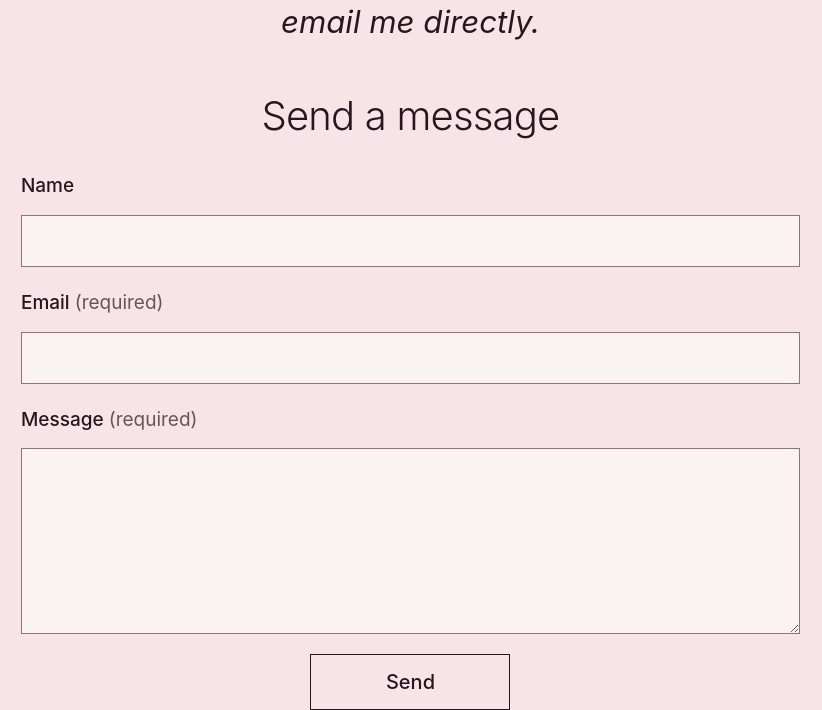
Scenario: ContactPage › marks an empty email with its message and moves focus to it
(page scrolled)
In the text box with id "contact-message": (410, 541) [21, 448, 800, 634], type "Hello Rachel"
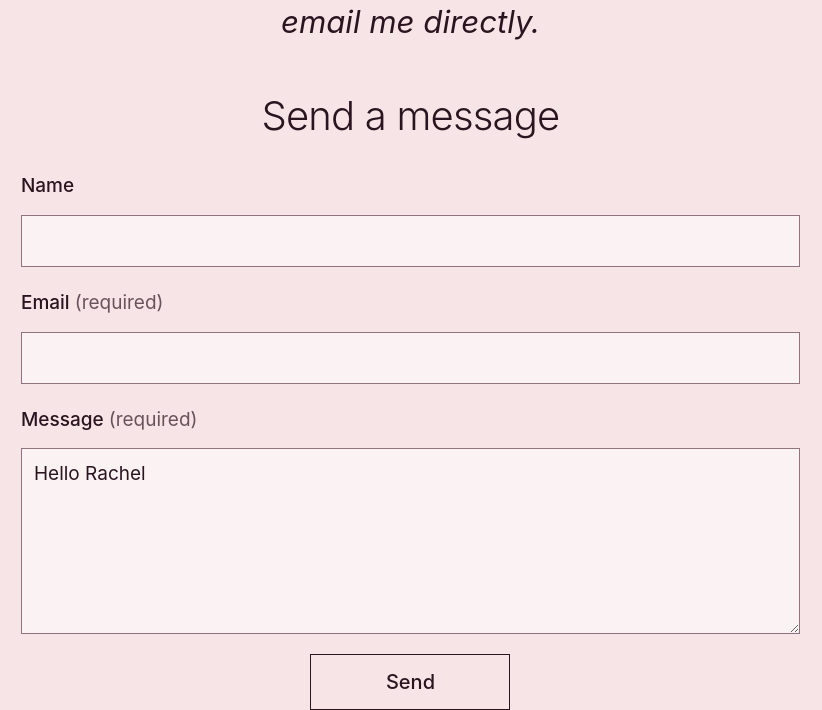
Click the button "Send": (410, 682) [310, 654, 510, 709]
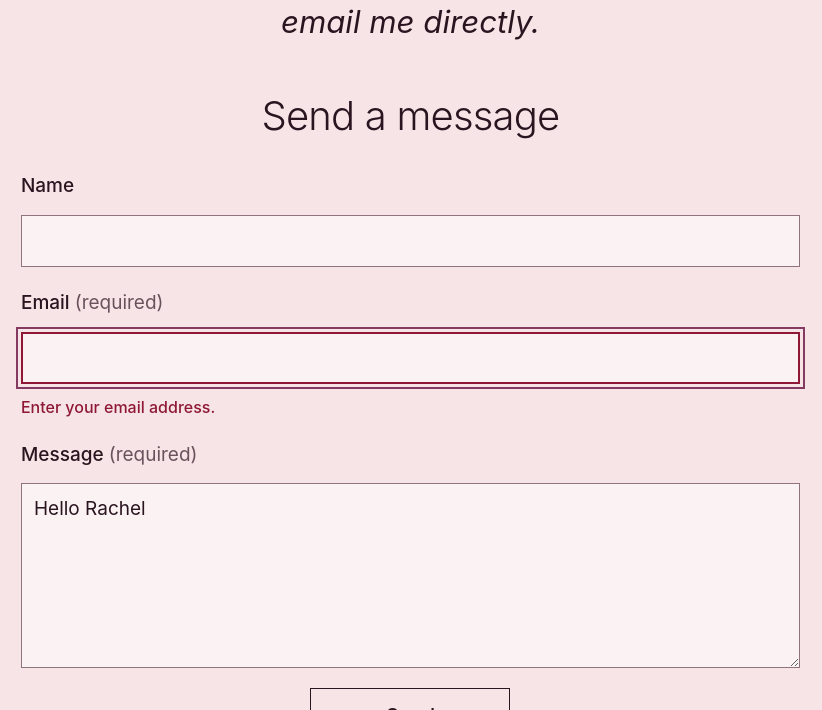
Expected: the text "Enter your email address." is shown, [21, 397, 215, 417]
